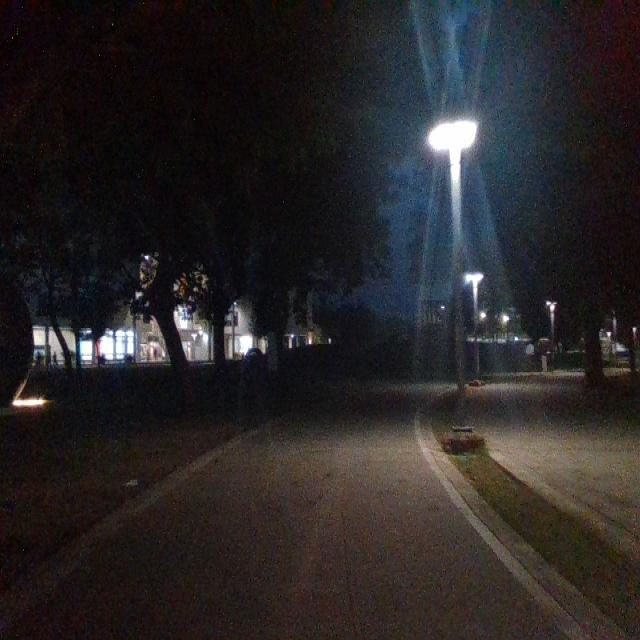lane: (1, 418, 577, 640)
